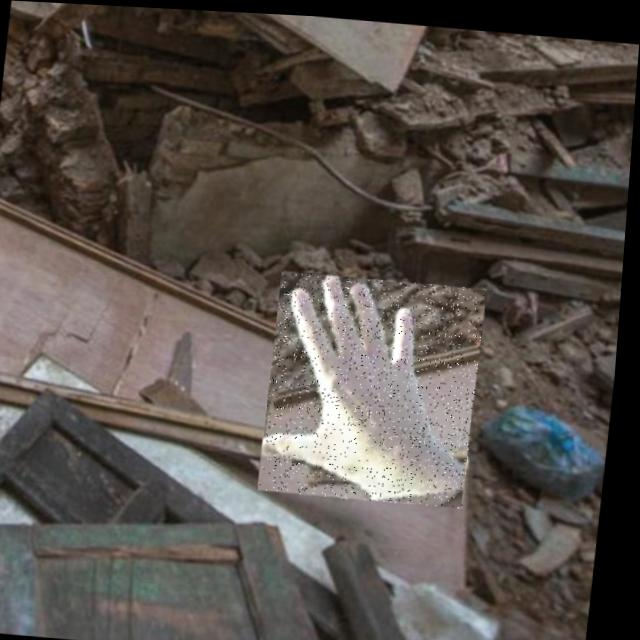Person in Rubble: (264, 267, 491, 503)
